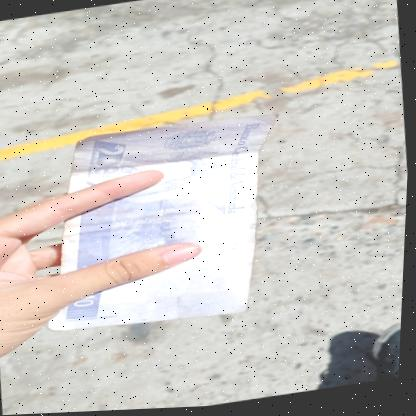ten-back-vef: (31, 112, 300, 342)
